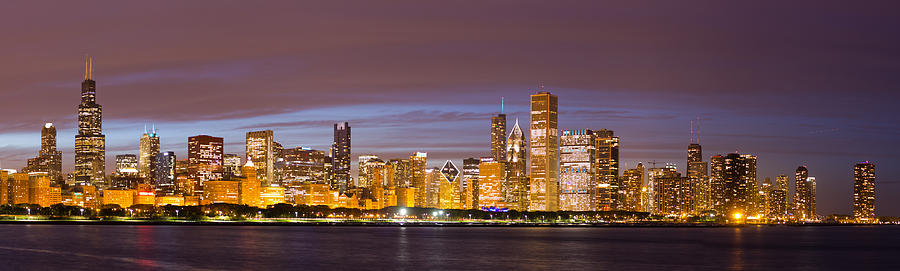willis: (70, 44, 113, 188)
